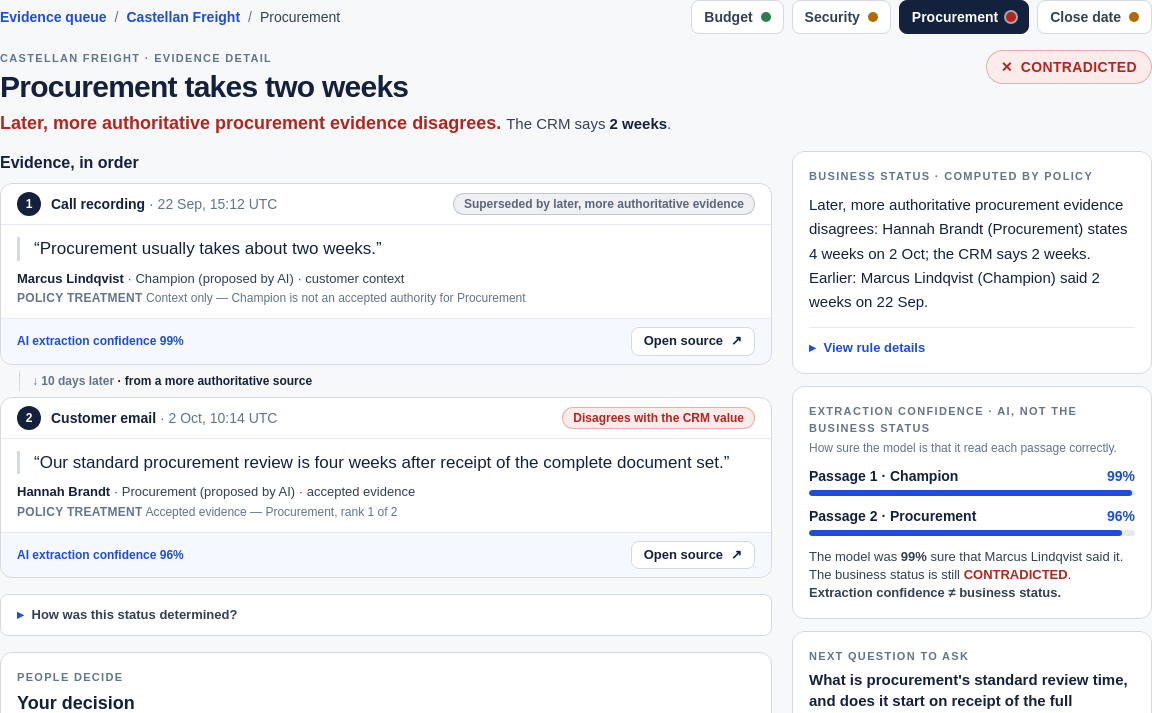
Test case: Screen 3: evidence detail (Procurement) › opens the source with the quote highlighted in its surrounding context
Step 1. Click the button with aria-label "Open source for passage 1" → (693, 341), box [631,327,755,356]
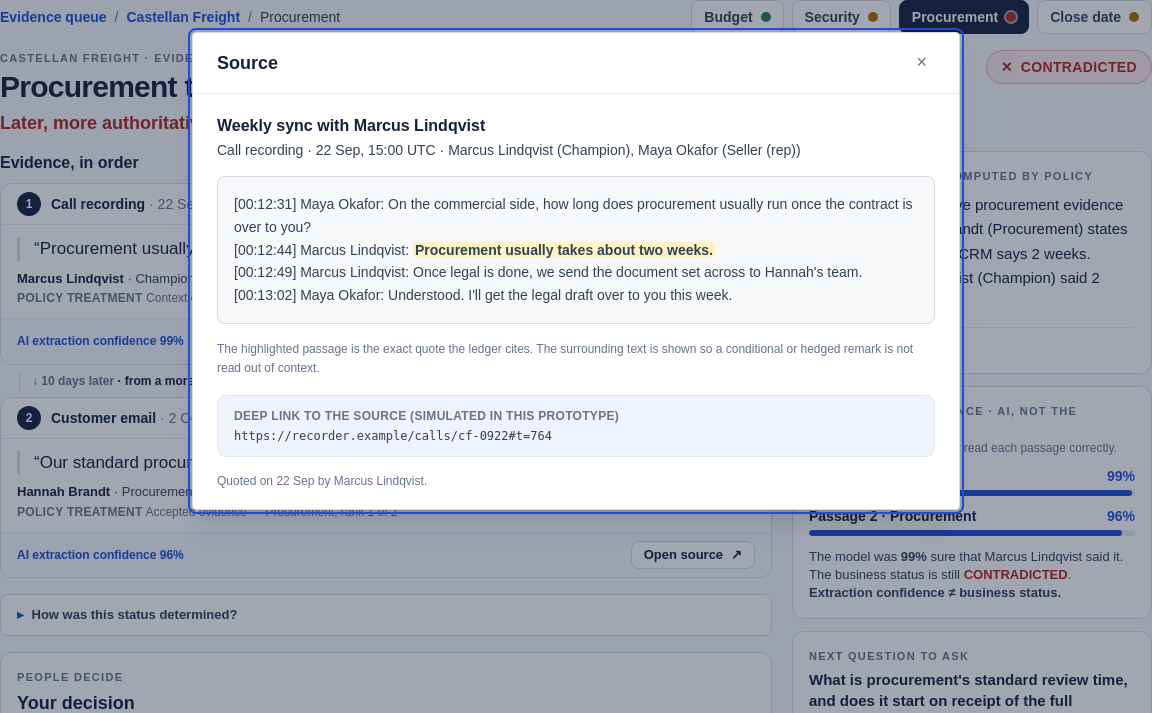
Result: the element with test id "source-text" shows "Once legal is done, we send the document set across" at [234,264,862,303]
Result: the text "Procurement usually takes about two weeks." is shown at [413,242,715,258]
